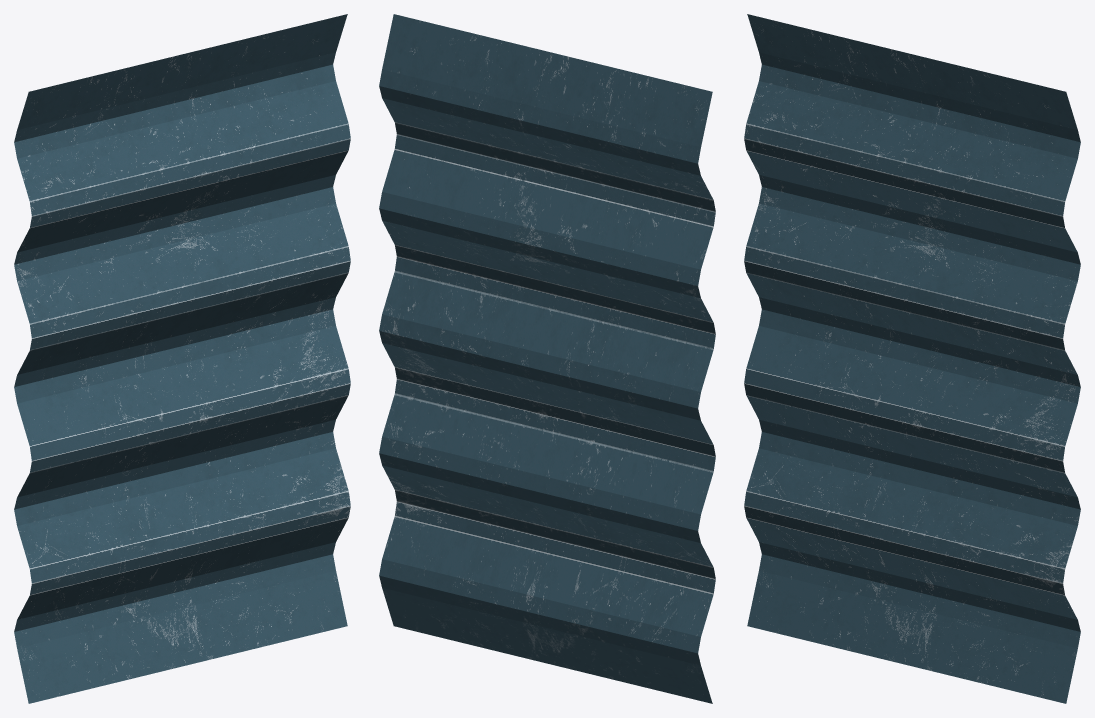
Rendered from Bend3_Blue.gltf.
3 renders of one model, left to right at view 1: azimuth 30°, elevation 25°; view 2: azimuth 150°, elevation 25°; view 3: azimuth 330°, elevation 25°, orthographic.
Parts seen in each view (by area): view 1: Plane.006; view 2: Plane.006; view 3: Plane.006.
Boxes of the visible parts, x1,y1,x2,y2 form: Plane.006: [14, 14, 350, 703]; Plane.006: [379, 14, 715, 703]; Plane.006: [744, 14, 1080, 703].
Size of the model in its own units: 2.22 by 4.06 by 0.2138.
1 material, 1 textured.
